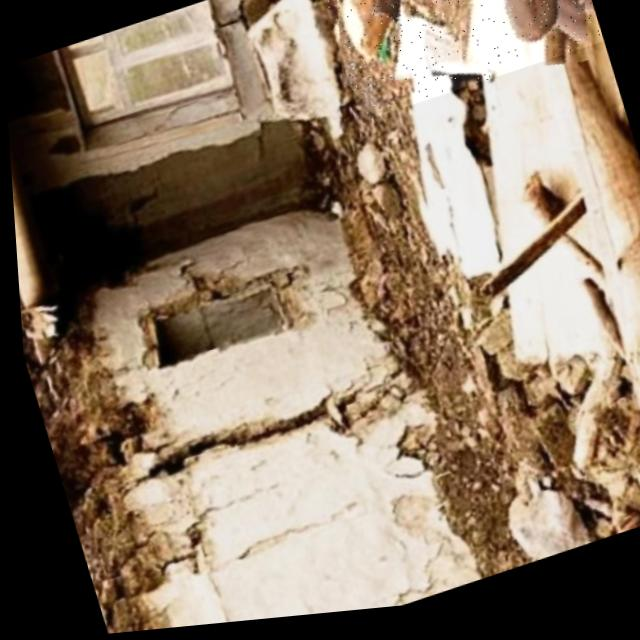Person in Rubble: (313, 0, 605, 130)
